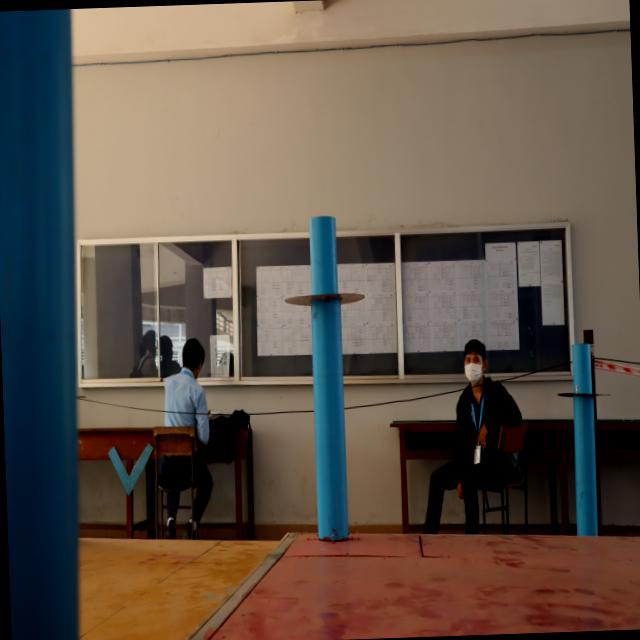pole: (268, 209, 364, 394), (550, 336, 618, 431)
